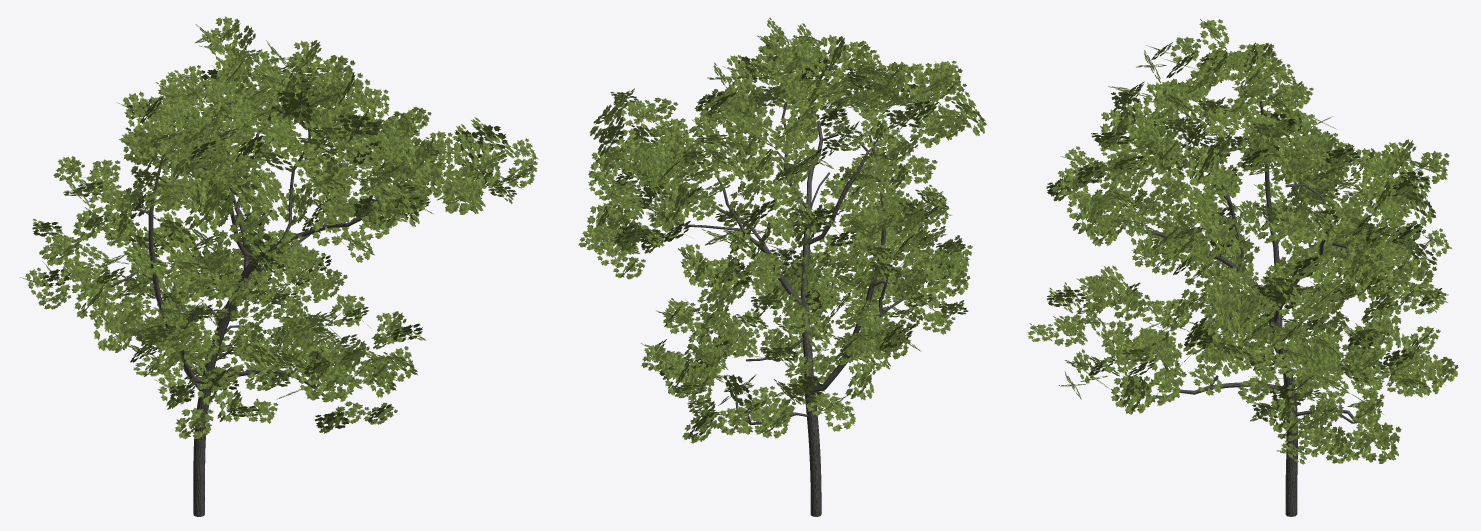
The model's file is sugar_maple_5_hero.obj.
3 renders of one model, left to right at view 1: azimuth 30°, elevation 25°; view 2: azimuth 150°, elevation 25°; view 3: azimuth 270°, elevation 25°, orthographic. The views are drawn at different scales.
Parts seen in each view (by area): view 1: Leaves, Branches, Trunk; view 2: Leaves, Branches, Trunk; view 3: Leaves, Branches, Trunk.
Boxes of the visible parts, x1,y1,x2,y2 form: Leaves: (20, 16, 538, 439); Branches: (110, 126, 367, 395); Trunk: (193, 106, 282, 516); Leaves: (578, 17, 986, 443); Branches: (668, 101, 926, 424); Trunk: (715, 140, 821, 516); Leaves: (1027, 19, 1458, 464); Branches: (1127, 100, 1372, 423); Trunk: (1264, 183, 1330, 516).
Bounding box in the file's own units: 47.46 × 46.86 × 41.57.
Materials: 2 (2 with a texture image).
